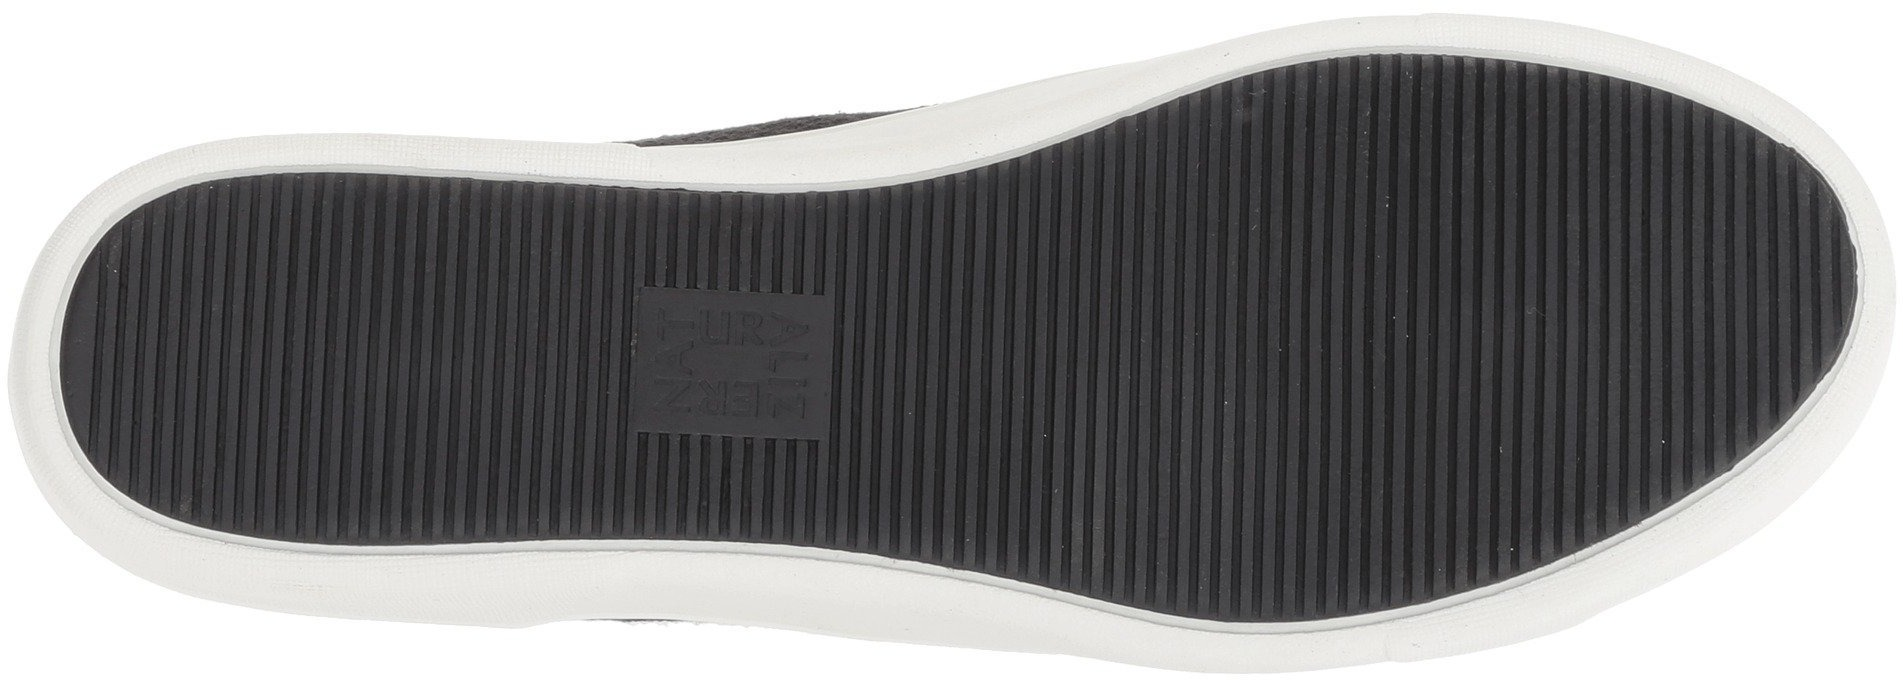line: (1136, 130, 1568, 549), (143, 225, 610, 510), (854, 211, 1129, 535), (1575, 174, 1808, 382), (620, 257, 860, 444), (1575, 385, 1681, 488)
quad: (620, 257, 860, 444)
text: (620, 257, 860, 444), (629, 291, 831, 442)
